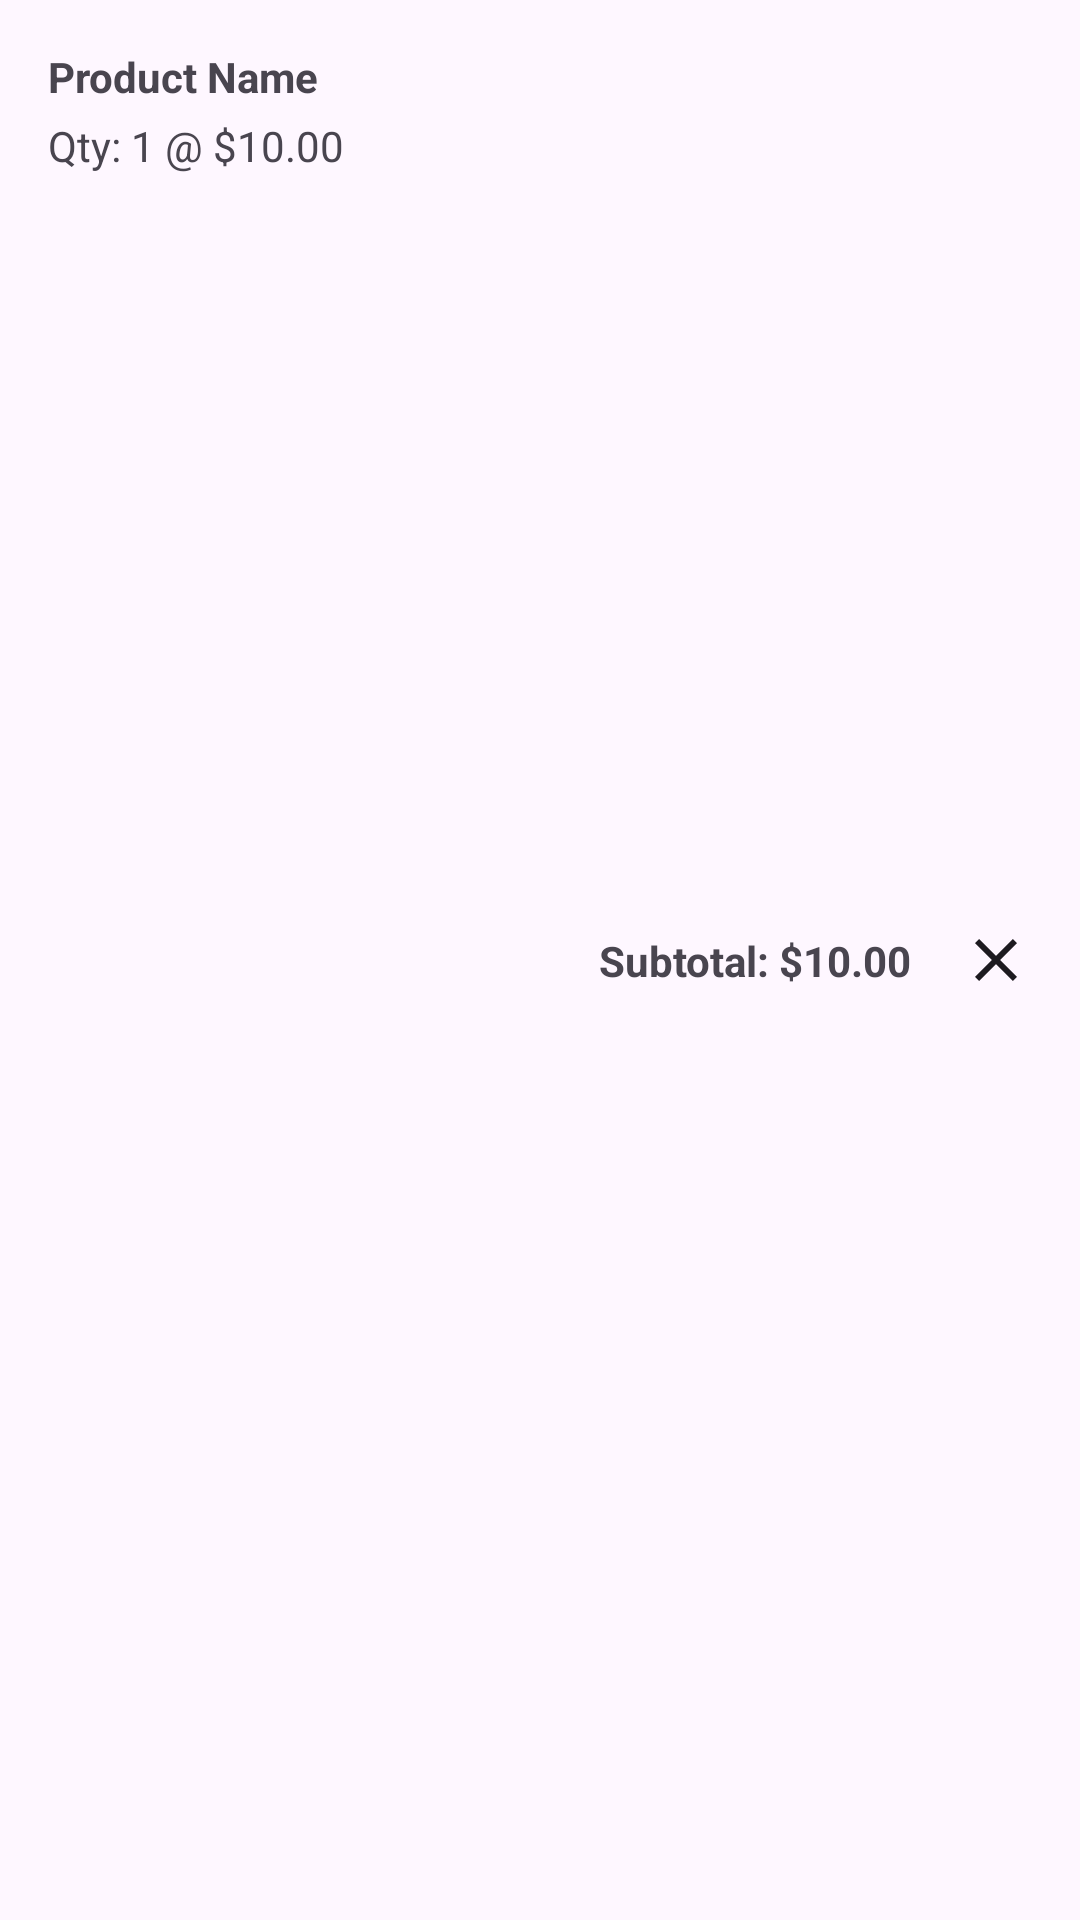

Where to tap for icons on this 1080px×1920px app screen, as [x,y]:
close: [996,960]
